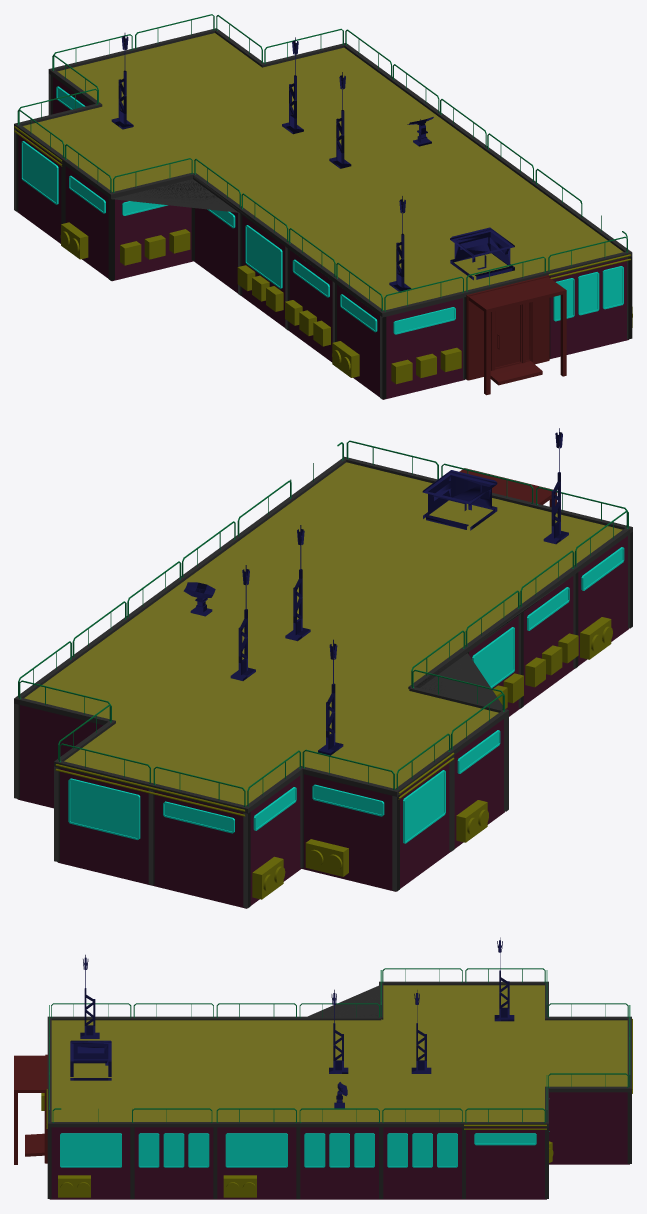
File: BuN_006.fbx
3 renders of one model, top to bottom at view 1: azimuth 30°, elevation 25°; view 2: azimuth 150°, elevation 25°; view 3: azimuth 270°, elevation 25°, orthographic. The views are drawn at different scales.
Visible parts, largest first — view 1: Building_Generator1; view 2: Building_Generator1; view 3: Building_Generator1.
Part boxes in pixels (x1,y1,x2,y2): Building_Generator1: [14, 14, 632, 399]; Building_Generator1: [14, 428, 632, 908]; Building_Generator1: [14, 937, 632, 1199].
Bounding box in the file's own units: 4.24 × 2.1 × 7.47.
